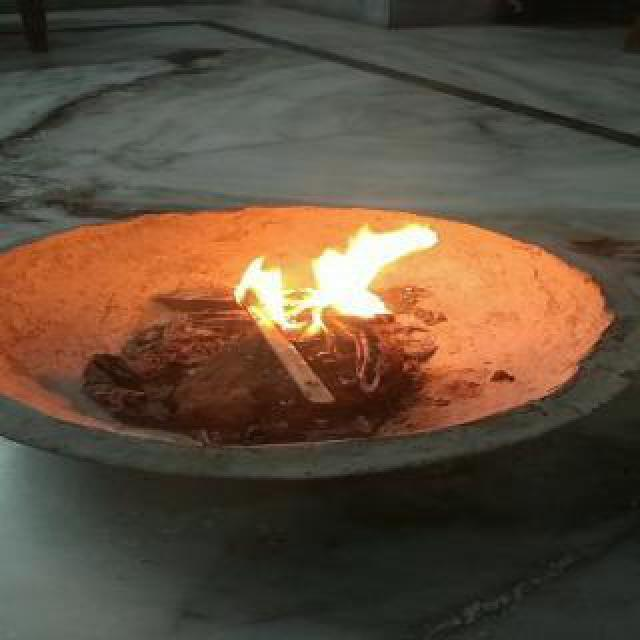Fire: (224, 200, 476, 336)
